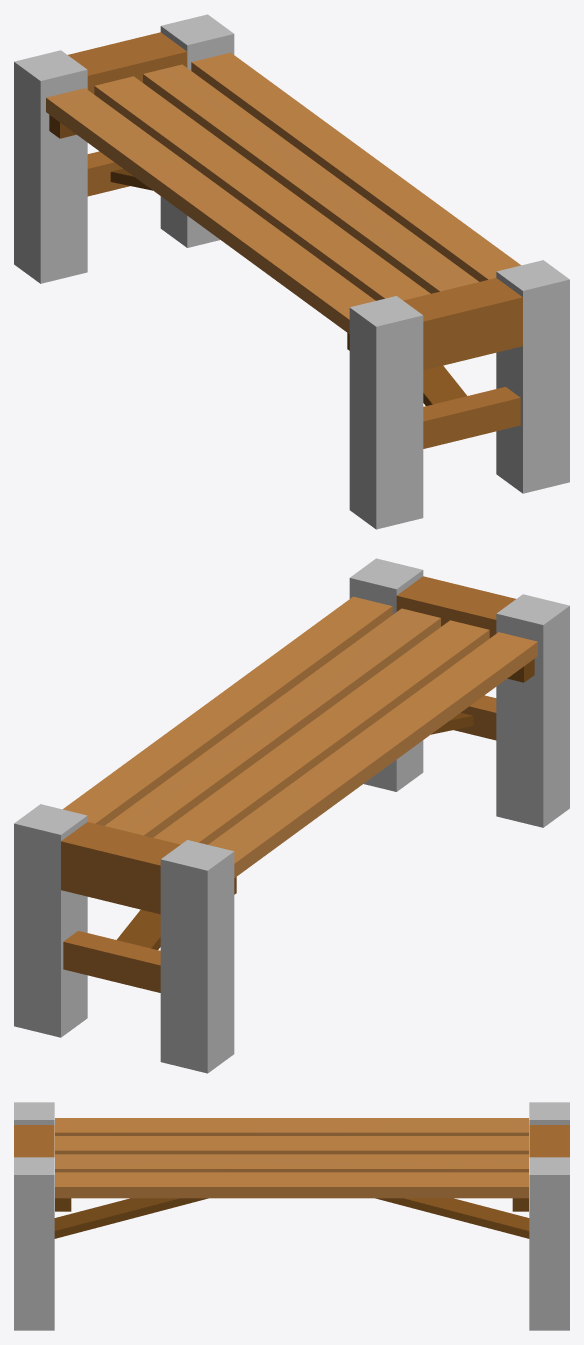
The model's file is bench.fbx.
3 views of the same model, one above another, from view 1: azimuth 30°, elevation 25°; view 2: azimuth 150°, elevation 25°; view 3: azimuth 270°, elevation 25° (orthographic). The views are drawn at different scales.
Parts seen in each view (by area): view 1: bench; view 2: bench; view 3: bench.
Part boxes in pixels (box(x1,y1,x2,y2)): bench: box(14, 14, 569, 529); bench: box(14, 558, 569, 1073); bench: box(14, 1102, 569, 1330).
Size of the model in its own units: 200 by 200 by 648.
Materials: 1 (1 with a texture image).
